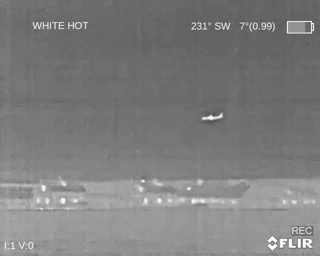AIRPLANE: (199, 111, 225, 123)
